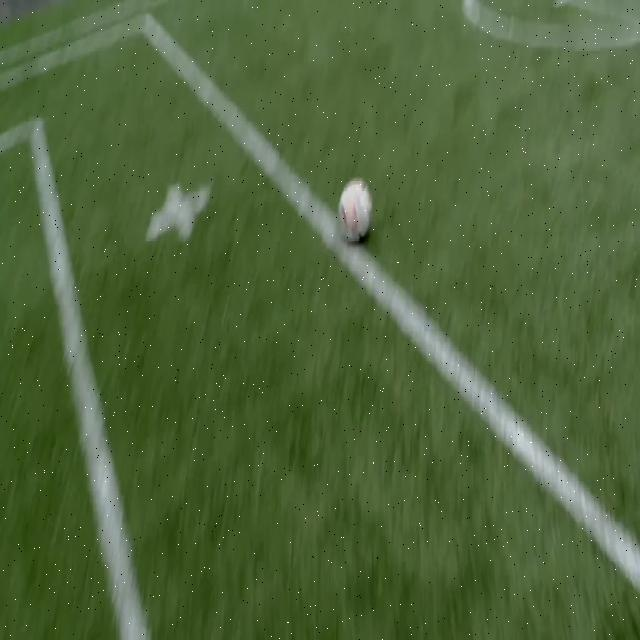ball: (339, 178, 372, 242)
